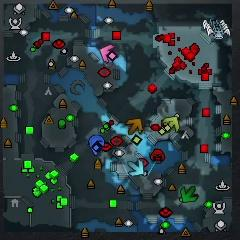p1: (89, 135, 104, 156)
x1: (100, 44, 116, 63)
x2: (164, 116, 179, 132)
x3: (128, 160, 144, 176)
x4: (180, 186, 198, 203)
x5: (127, 118, 142, 134)
